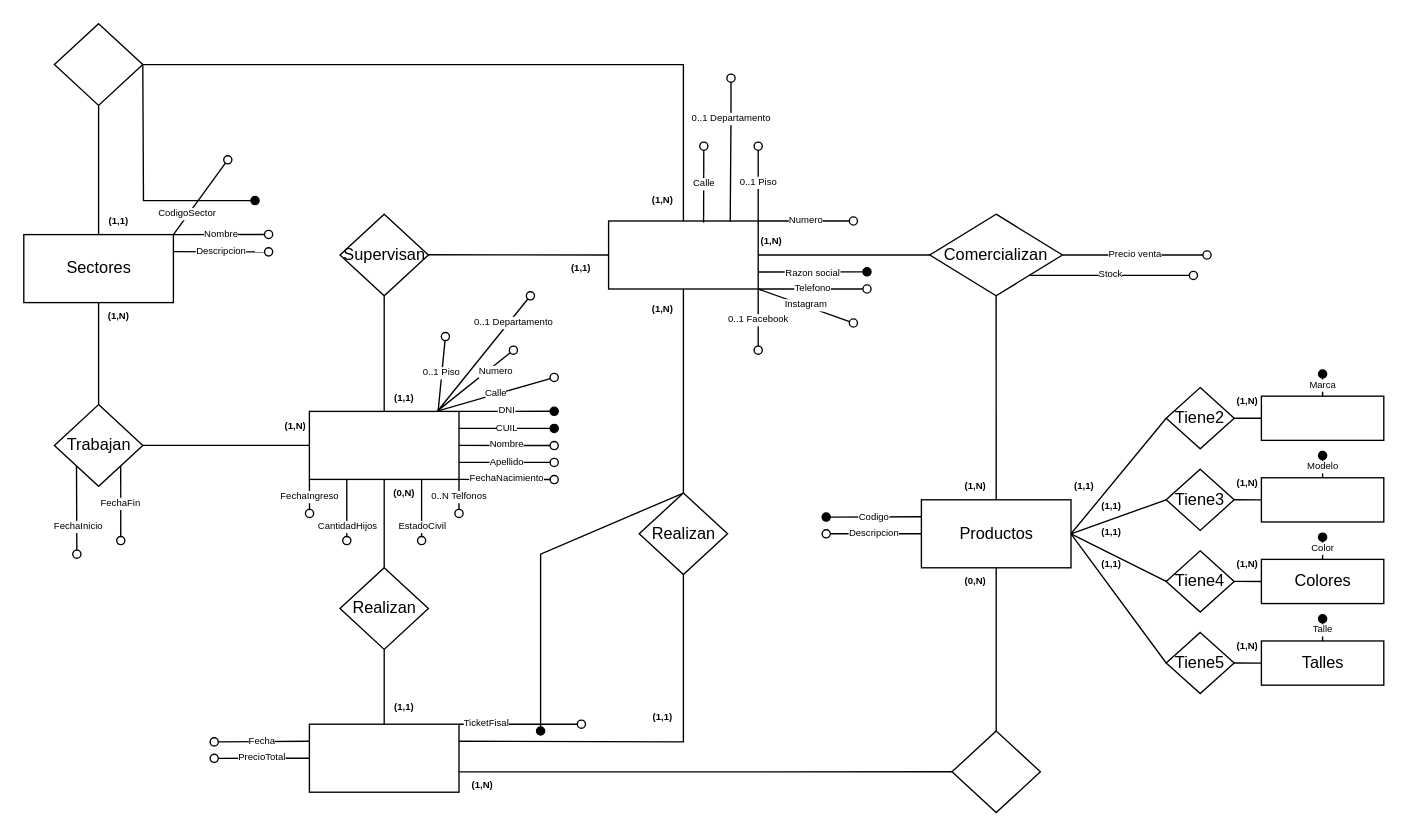
The diagram is 1408 pixels wide and 836 high, and some of its shapes have lost their labels. The shapes that lost their labels are listed below. From the top down, each one's centre as x and y in pixels, then its label:
At (x=98, y=63): "Tienen1".
At (x=682, y=254): "Tiendas".
At (x=1322, y=417): "Marcas".
At (x=383, y=444): "Empleados".
At (x=1322, y=499): "Modelos".
At (x=383, y=757): "Ventas".
At (x=995, y=771): "Tienen2".
